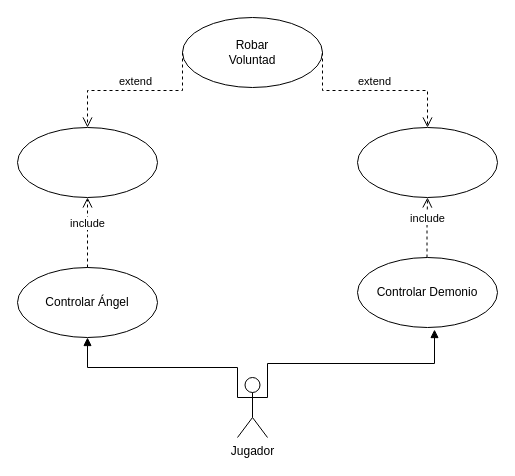
Some shapes in this 515 by 476 pixel diagram are drawn without their labels. The shapes that lost their labels are listed below. From the top down, each one's centre as x and y in pixels, then its label:
At (87,162): "Probar Fe".
At (427,162): "Seducir Humano".
